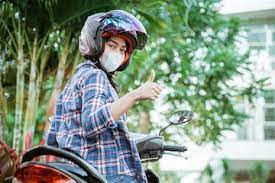helmets: (77, 10, 147, 56)
